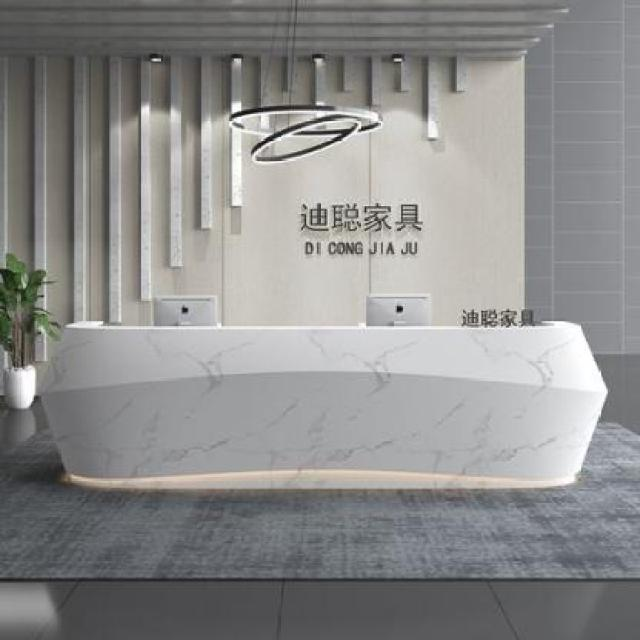frontdesk: (34, 291, 616, 505)
